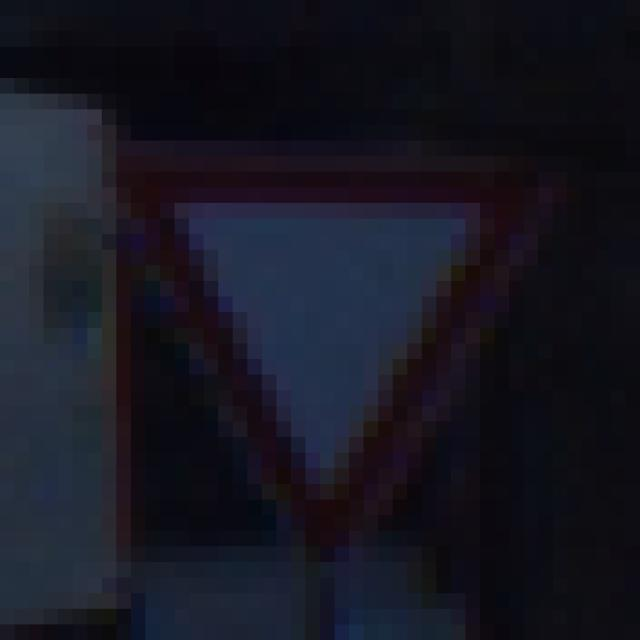Give Way: (89, 95, 569, 563)
